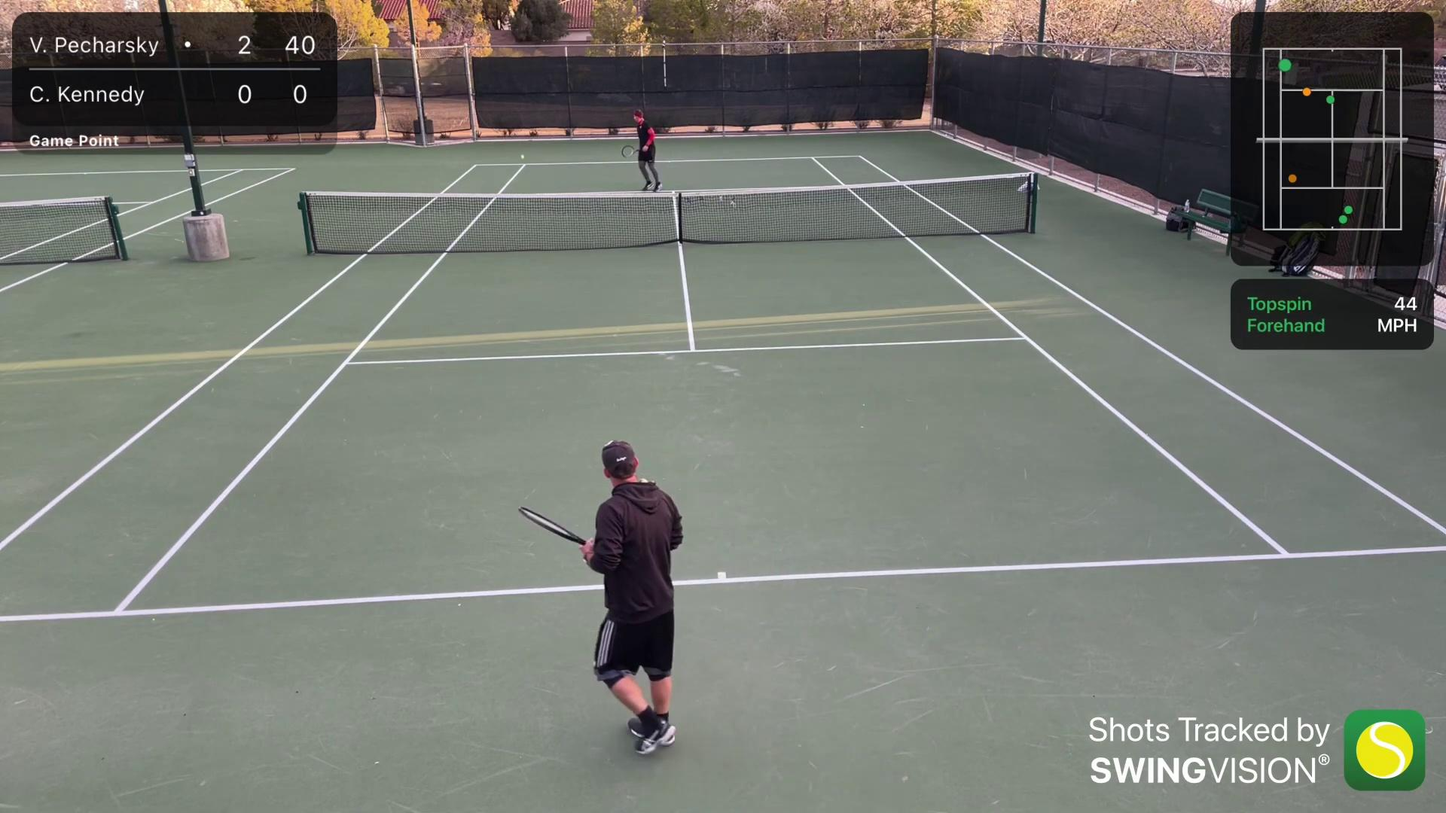ball: (520, 152, 526, 159)
